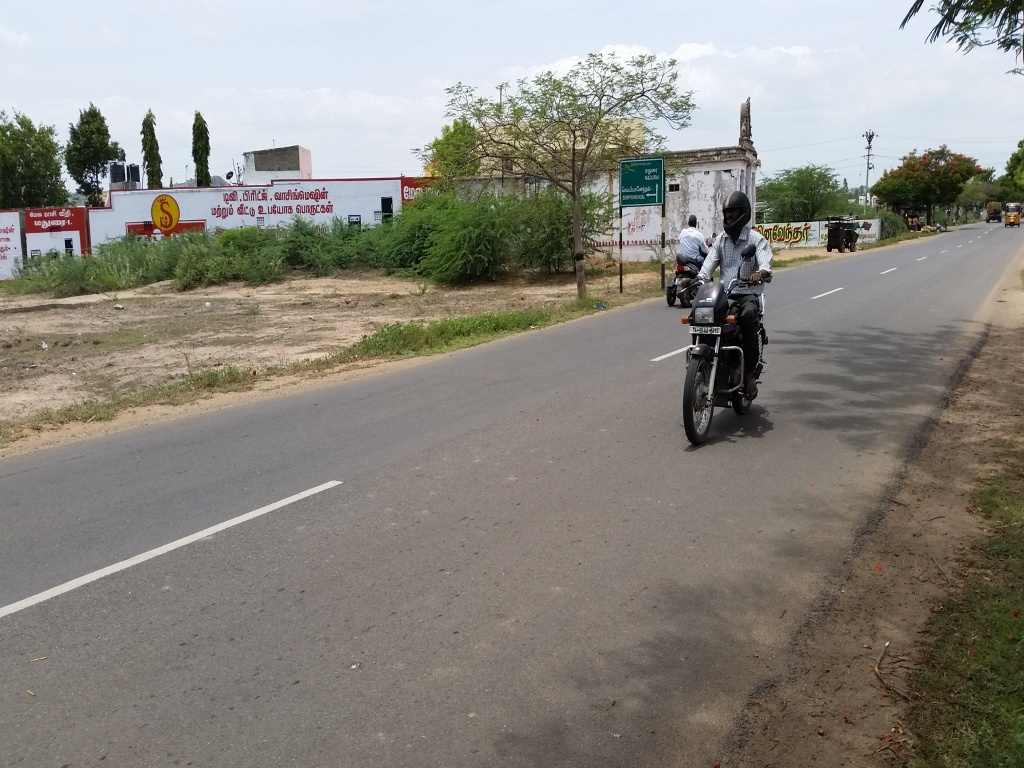biker: (679, 177, 781, 448), (662, 192, 715, 313)
helmet: (717, 185, 760, 243)
nohelmet: (686, 210, 702, 234)
